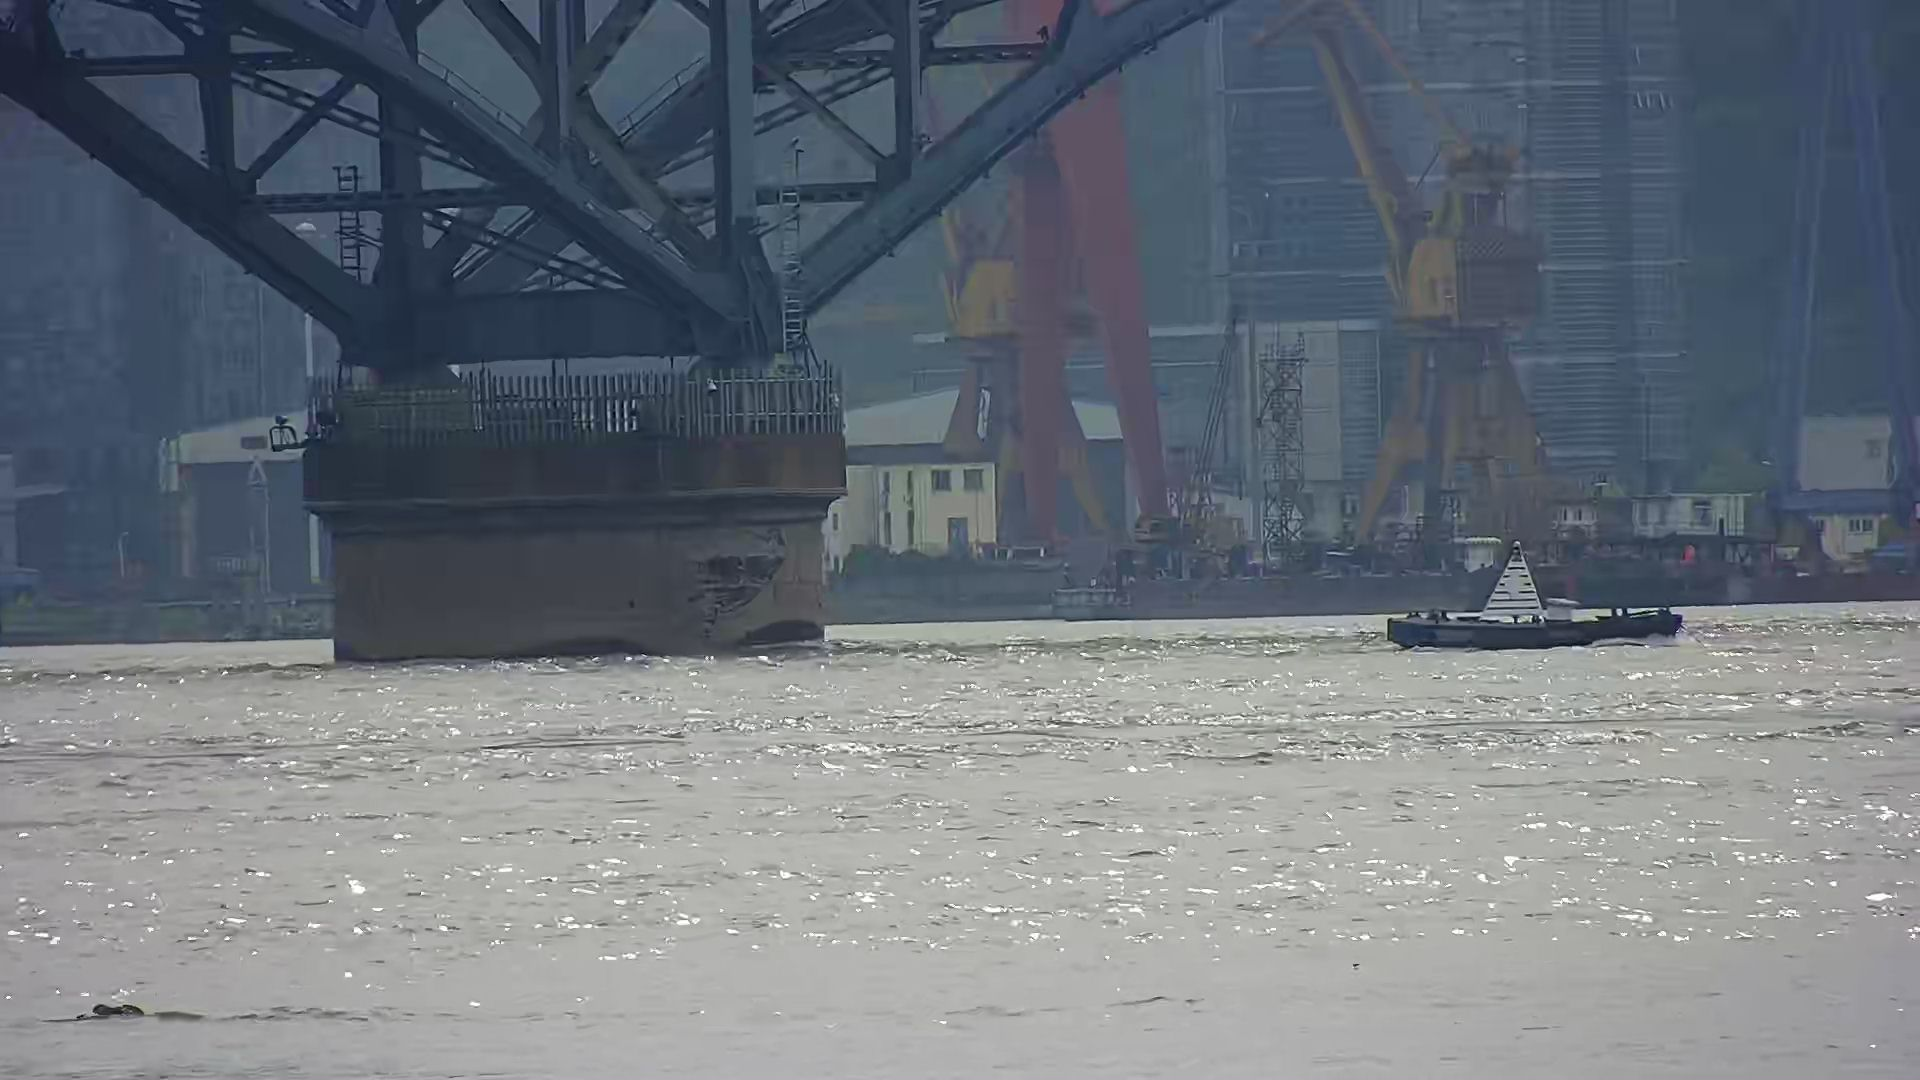boat: (1369, 531, 1706, 665)
bridge: (1, 1, 1263, 699)
